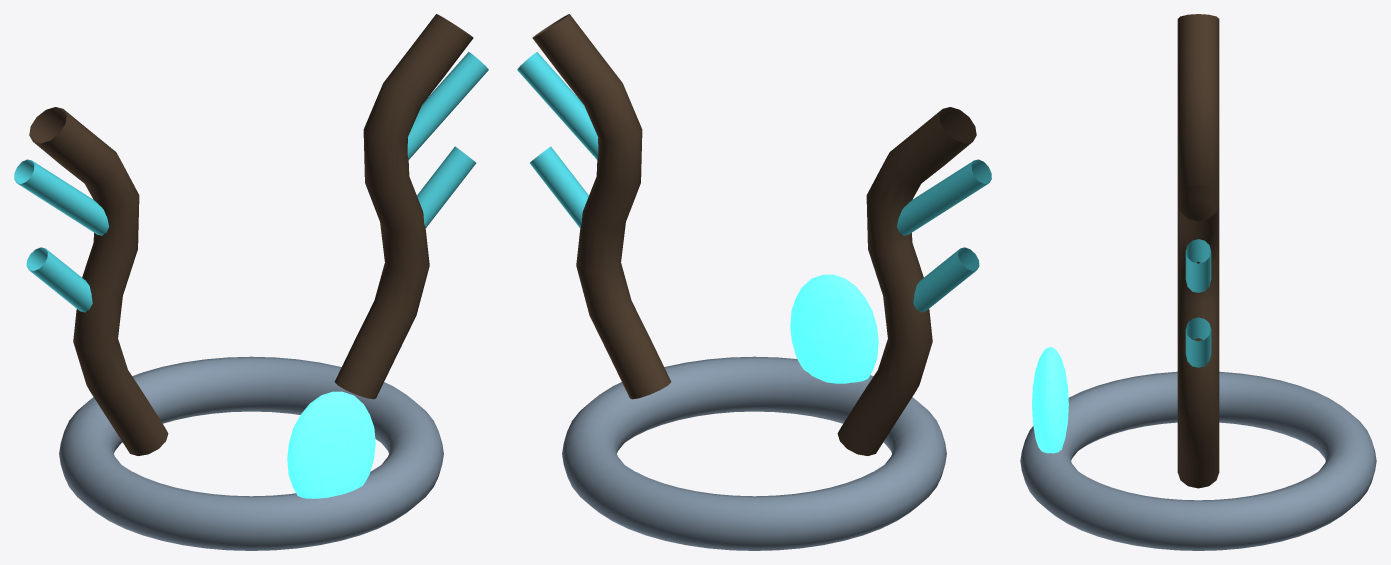
The model's file is crown_v4.glb.
3 views of the same model, side by side, from view 1: azimuth 30°, elevation 25°; view 2: azimuth 150°, elevation 25°; view 3: azimuth 270°, elevation 25° (orthographic). The views are drawn at different scales.
Visible parts, largest first — view 1: ANTLER_BAND_PRIMARY, ANTLER_SECONDARY.001, ANTLER_SECONDARY, ANTLER_GEM_EMISSIVE, ANTLER_TINE_ACCENT.001, ANTLER_TINE_ACCENT.003, ANTLER_TINE_ACCENT, ANTLER_TINE_ACCENT.002; view 2: ANTLER_BAND_PRIMARY, ANTLER_SECONDARY.001, ANTLER_SECONDARY, ANTLER_GEM_EMISSIVE, ANTLER_TINE_ACCENT.001, ANTLER_TINE_ACCENT.003, ANTLER_TINE_ACCENT, ANTLER_TINE_ACCENT.002; view 3: ANTLER_BAND_PRIMARY, ANTLER_SECONDARY.001, ANTLER_SECONDARY, ANTLER_GEM_EMISSIVE, ANTLER_TINE_ACCENT.003, ANTLER_TINE_ACCENT.002.
Boxes of the visible parts, <box> form: ANTLER_BAND_PRIMARY: <box>59,356,443,550</box>; ANTLER_SECONDARY.001: <box>334,14,473,399</box>; ANTLER_SECONDARY: <box>29,107,168,455</box>; ANTLER_GEM_EMISSIVE: <box>287,391,375,498</box>; ANTLER_TINE_ACCENT.001: <box>14,159,108,235</box>; ANTLER_TINE_ACCENT.003: <box>407,52,488,159</box>; ANTLER_TINE_ACCENT: <box>26,247,92,312</box>; ANTLER_TINE_ACCENT.002: <box>417,146,476,227</box>; ANTLER_BAND_PRIMARY: <box>562,356,946,550</box>; ANTLER_SECONDARY.001: <box>532,14,671,399</box>; ANTLER_SECONDARY: <box>837,107,976,455</box>; ANTLER_GEM_EMISSIVE: <box>790,274,878,383</box>; ANTLER_TINE_ACCENT.001: <box>897,159,991,235</box>; ANTLER_TINE_ACCENT.003: <box>517,52,598,159</box>; ANTLER_TINE_ACCENT: <box>913,247,979,312</box>; ANTLER_TINE_ACCENT.002: <box>529,146,588,227</box>; ANTLER_BAND_PRIMARY: <box>1020,371,1376,550</box>; ANTLER_SECONDARY.001: <box>1177,184,1219,488</box>; ANTLER_SECONDARY: <box>1177,14,1219,201</box>; ANTLER_GEM_EMISSIVE: <box>1032,347,1068,453</box>; ANTLER_TINE_ACCENT.003: <box>1185,239,1211,292</box>; ANTLER_TINE_ACCENT.002: <box>1185,317,1211,367</box>.
Size of the model in its own units: 2.17 by 1.84 by 1.54.
